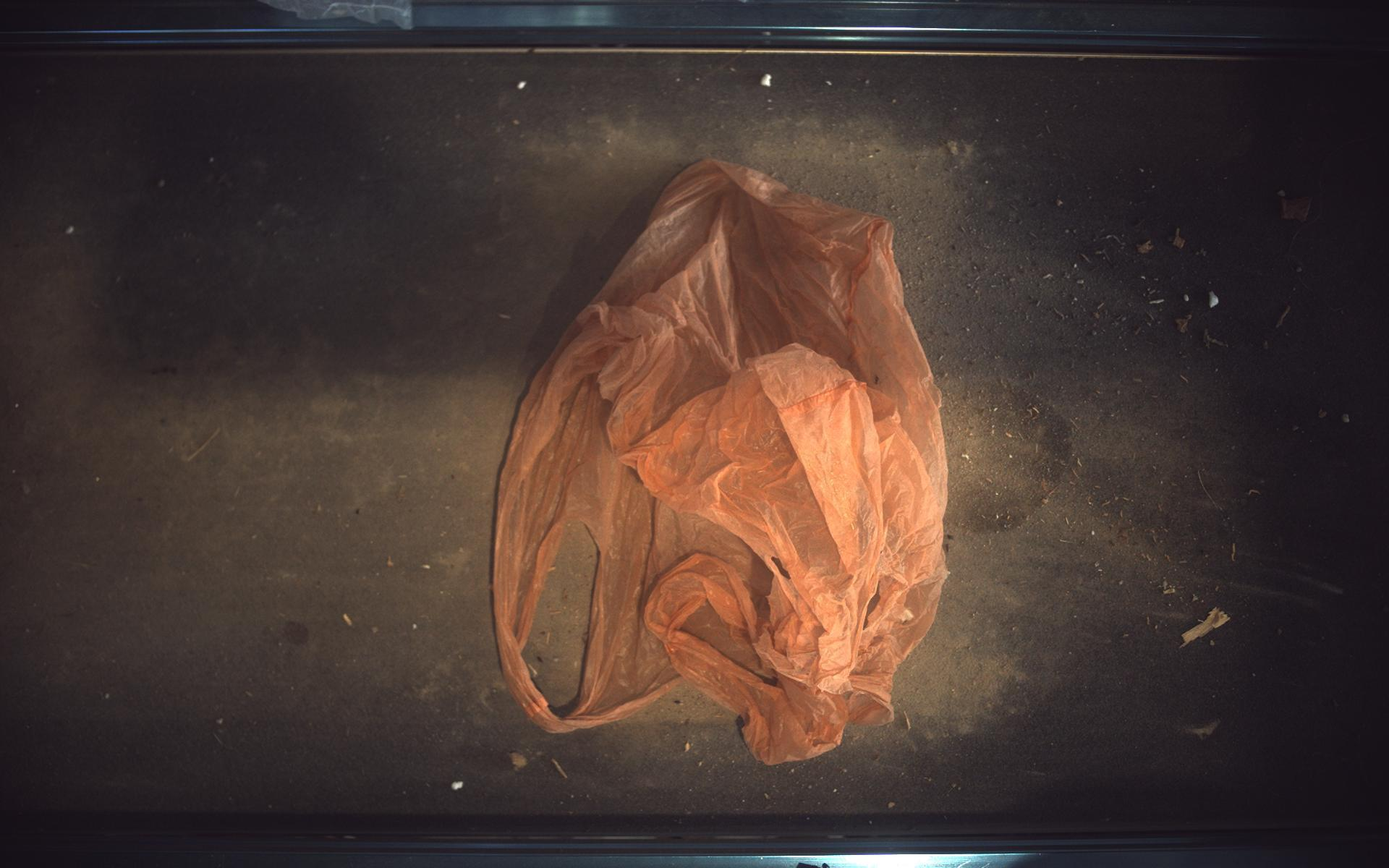general_w: (493, 159, 949, 765)
